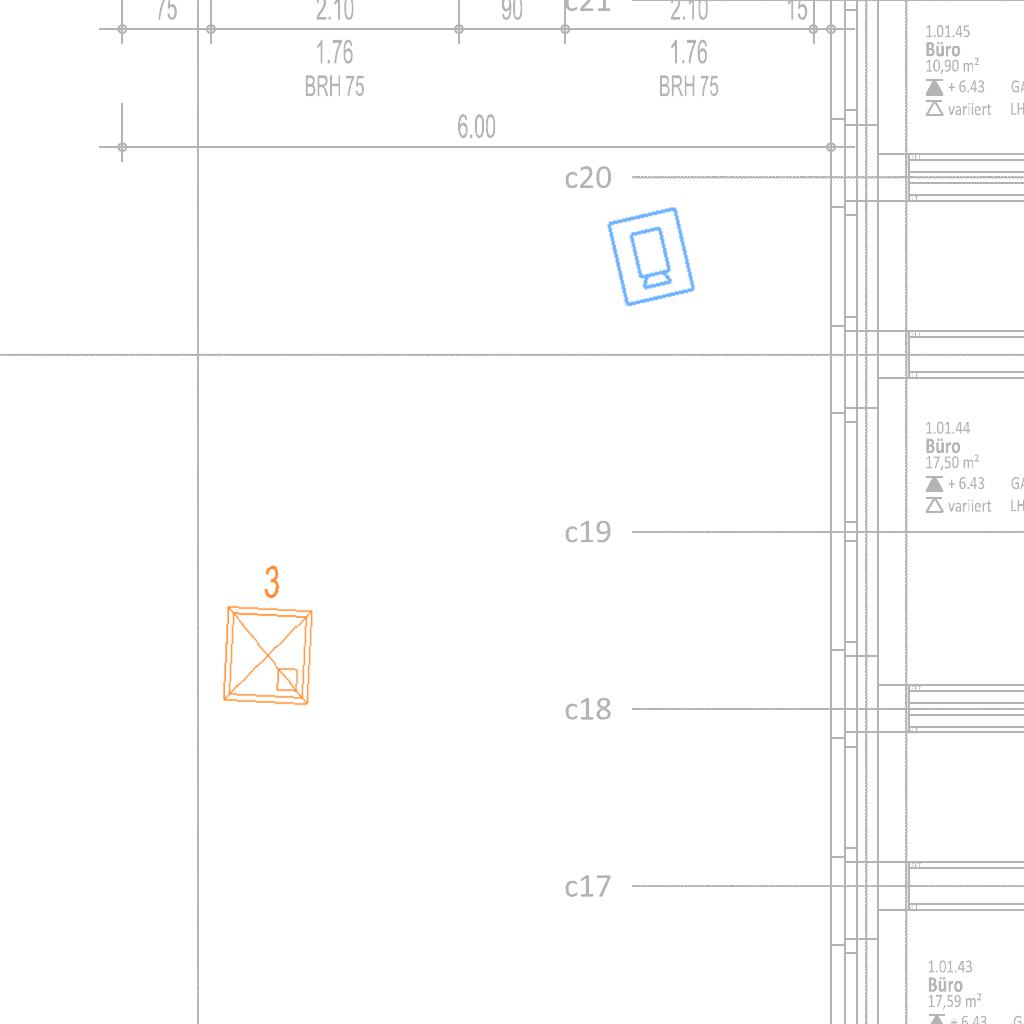Einbaudownlights_LED_Konferenzraeume: (211, 557, 323, 713)
KFO_Kamera_mit_Festobjektiv: (602, 203, 699, 310)
